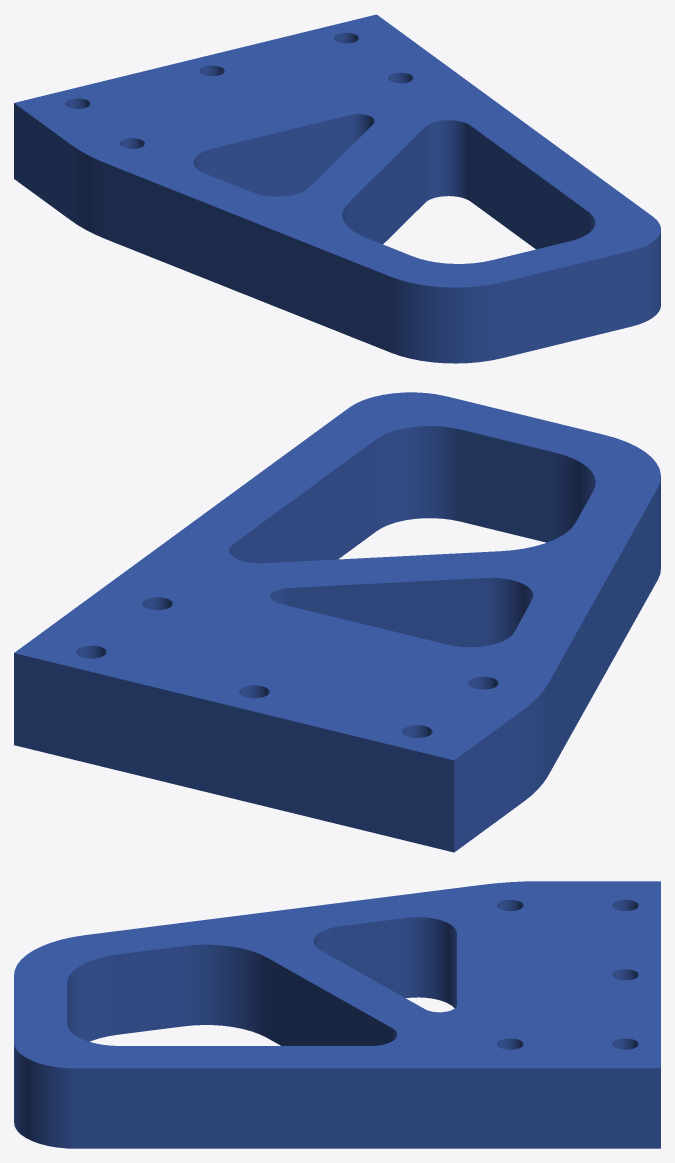
File: feet.dae
The picture shows the model from 3 angles, top to bottom: view 1: azimuth 30°, elevation 25°; view 2: azimuth 150°, elevation 25°; view 3: azimuth 270°, elevation 25°; orthographic projection. The views are drawn at different scales.
Visible parts, largest first — view 1: ID2; view 2: ID2; view 3: ID2.
Part boxes in pixels (left/top/right/bottom): ID2: left=14, top=14, right=660, bottom=363; ID2: left=14, top=392, right=660, bottom=852; ID2: left=14, top=881, right=660, bottom=1148.
Size of the model in its own units: 0.05 by 0.073 by 0.01.
